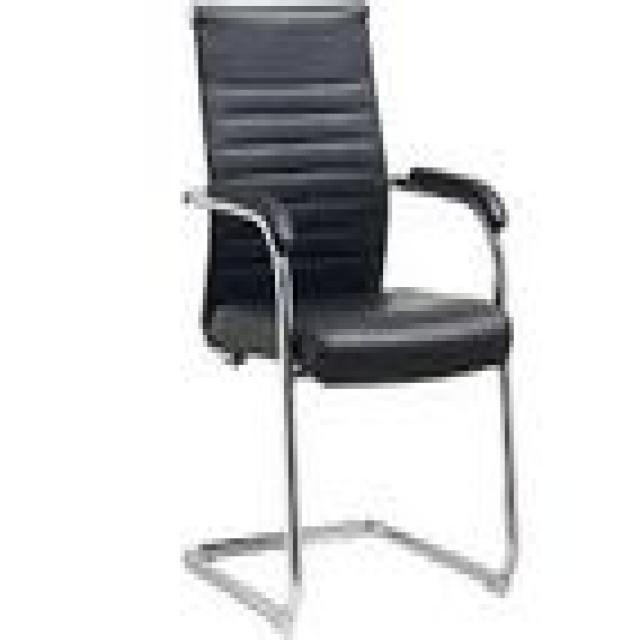others: (145, 6, 572, 634)
